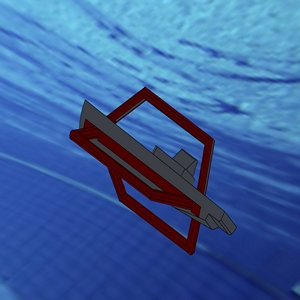submarine: (45, 66, 253, 263)
